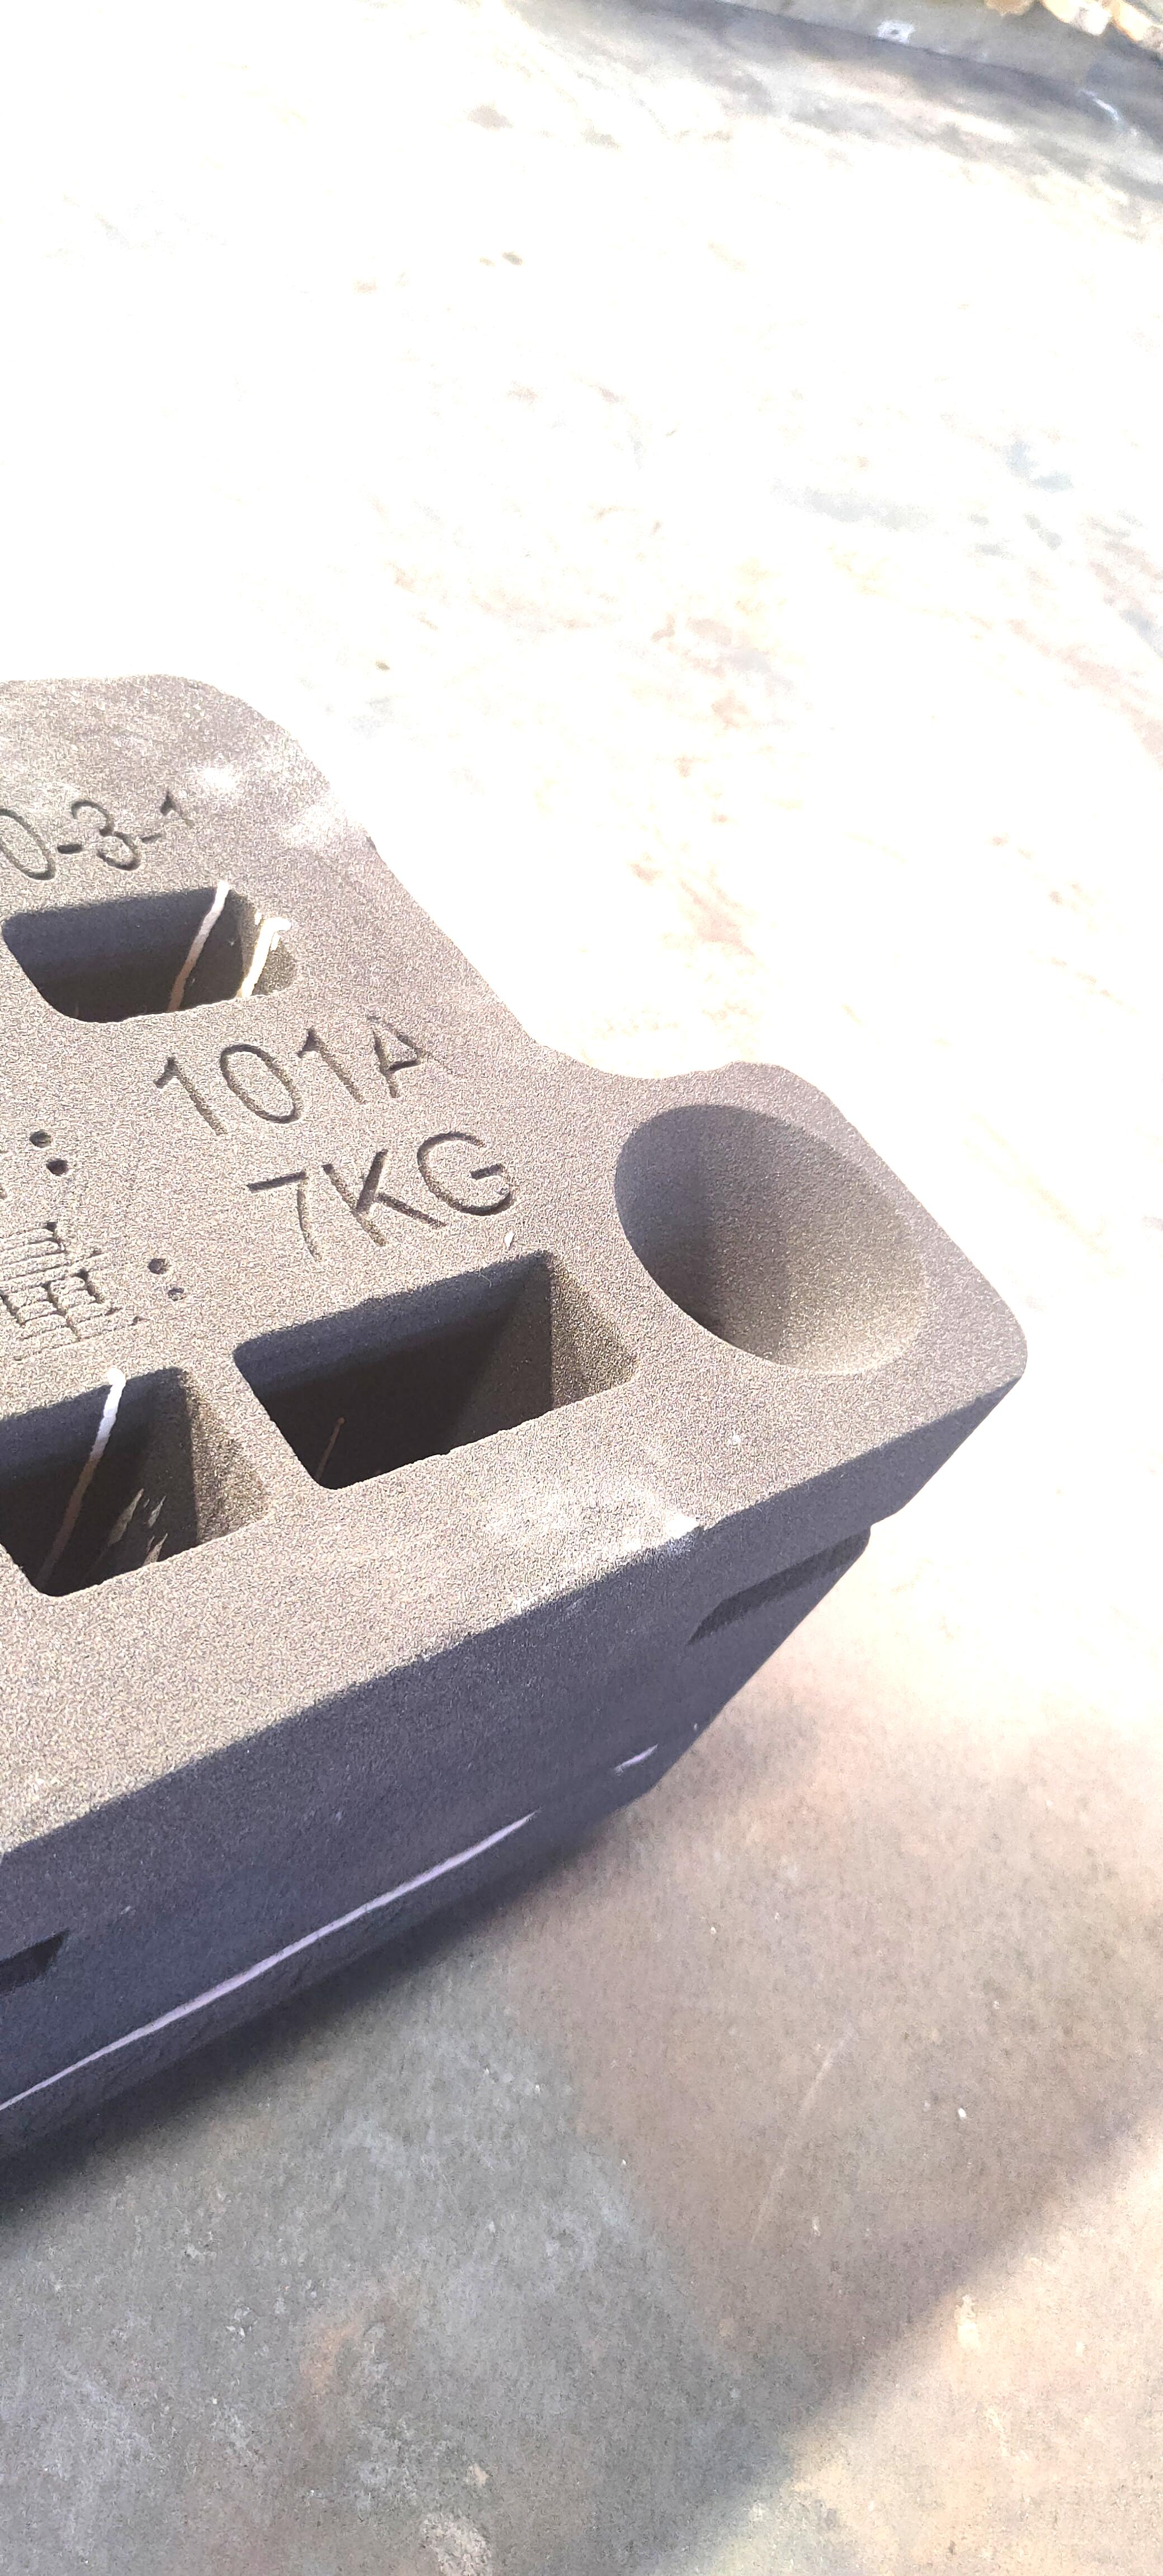pouring hole: (613, 1102, 923, 1373)
